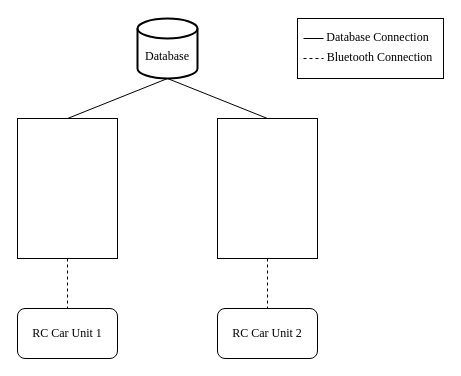
This 461x376 diagram has some shape labels left out. Each missing label, with the centre of its shape:
Android Phone User 1: the point at 67,188
Android Phone User 2: the point at 267,188
